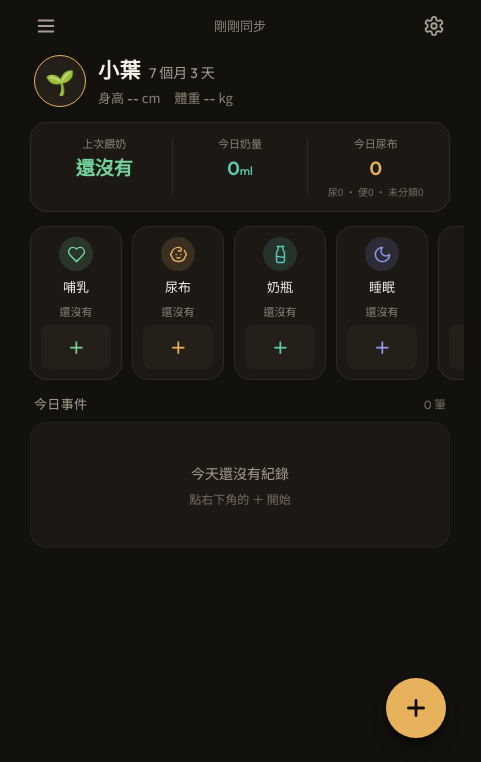
the quick nappy buttons › send one event with the kind that was tapped
The image size is (481, 762).
Expected: the text "上次餵奶" is shown, x1=82 y1=135 x2=126 y2=152
Click the link named "新增事件": {"x": 416, "y": 708} x1=386 y1=678 x2=446 y2=738
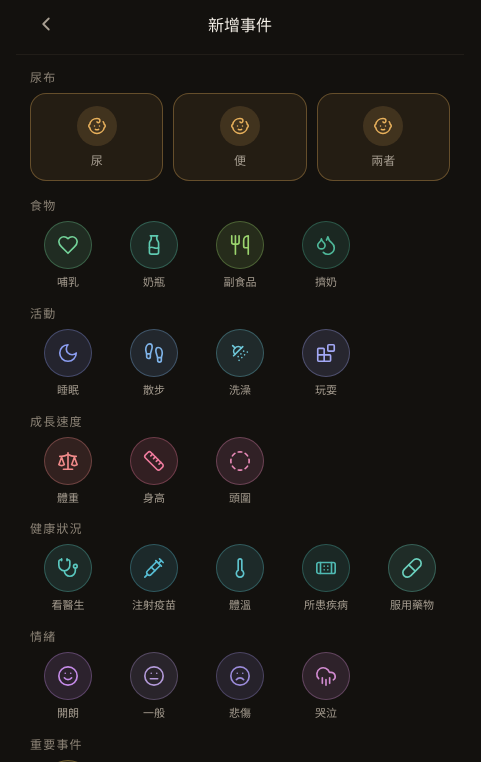
Click the button "便": {"x": 240, "y": 137} x1=173 y1=93 x2=307 y2=181
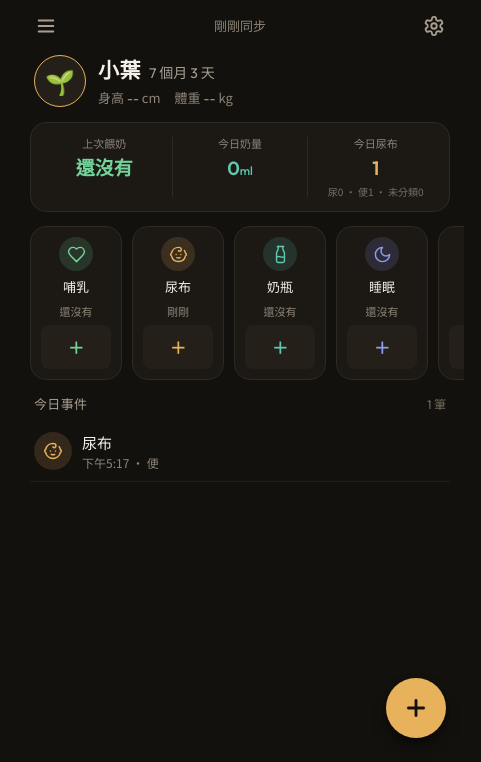
Now the text "上次餵奶" is shown, box x1=82 y1=135 x2=126 y2=152
